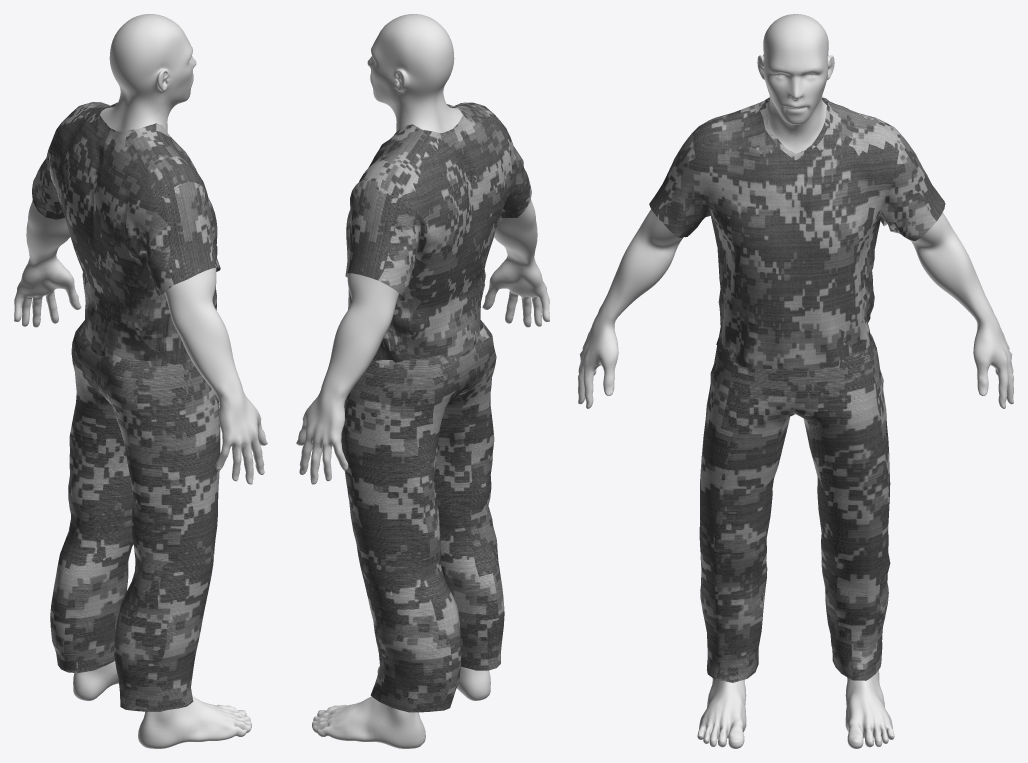
The model's file is usarmy.dae.
3 views of the same model, side by side, from view 1: azimuth 30°, elevation 25°; view 2: azimuth 150°, elevation 25°; view 3: azimuth 270°, elevation 25° (orthographic).
Visible parts, largest first — view 1: man_basic_poseC_base, Male_flamingSkull_shirt.001, Male; view 2: man_basic_poseC_base, Male_flamingSkull_shirt.001, Male; view 3: Male_flamingSkull_shirt.001, man_basic_poseC_base, Male.
Boxes of the visible parts, x1,y1,x2,y2 form: man_basic_poseC_base: (50, 320, 220, 711); Male_flamingSkull_shirt.001: (32, 102, 220, 370); Male: (14, 14, 267, 748); man_basic_poseC_base: (341, 320, 504, 712); Male_flamingSkull_shirt.001: (345, 102, 531, 362); Male: (296, 14, 549, 748); Male_flamingSkull_shirt.001: (649, 97, 945, 370); man_basic_poseC_base: (699, 333, 890, 682); Male: (578, 14, 1013, 748).
Bounding box in the file's own units: 4.26 × 11.69 × 20.74.
Materials: 2 (2 with a texture image).
